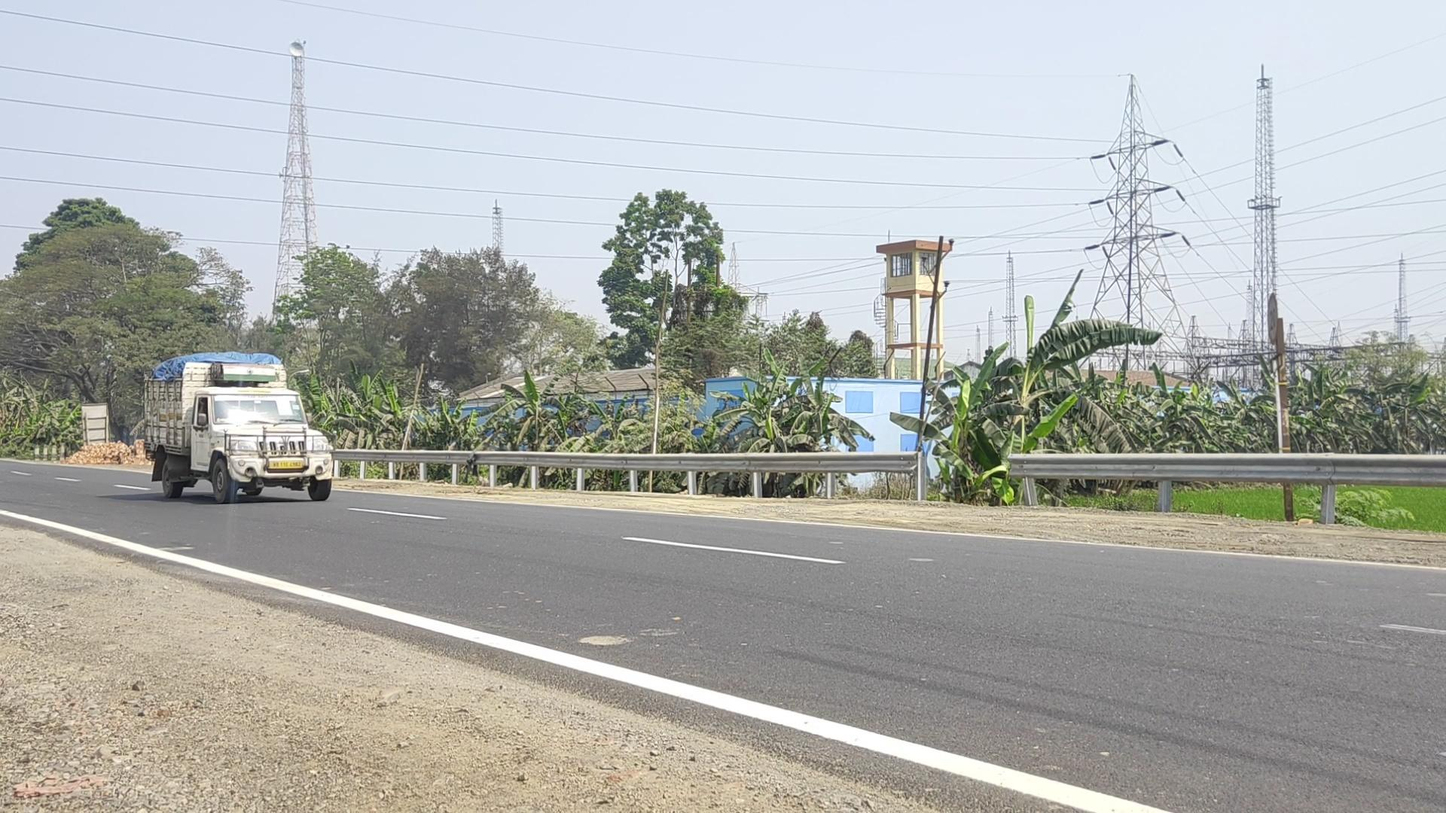van: (143, 352, 337, 504)
